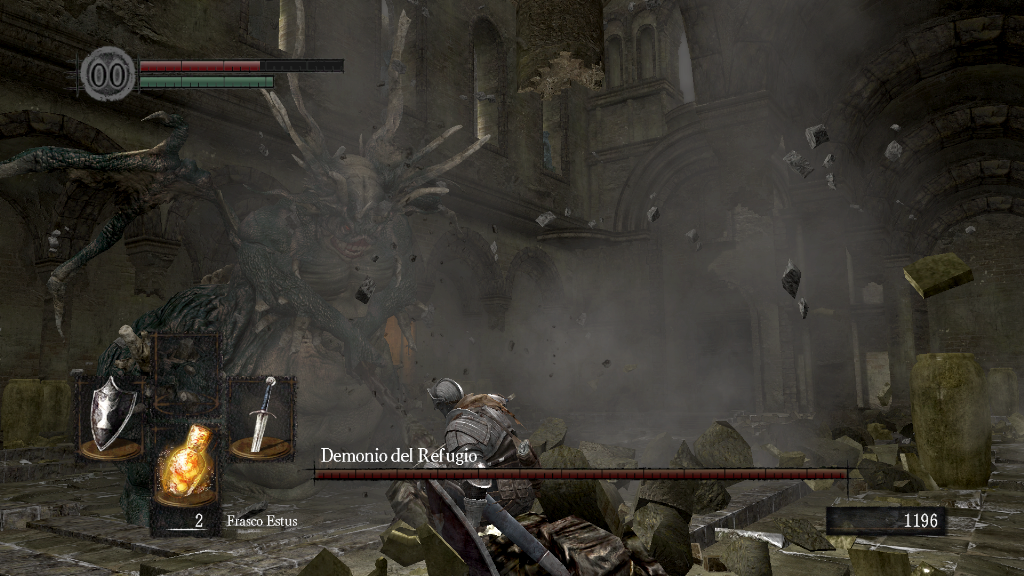asylumDemon: (1, 3, 498, 486)
bossHP: (314, 469, 847, 479)
health: (138, 58, 343, 71)
humanity: (80, 45, 136, 102)
player: (425, 376, 536, 576)
souls: (825, 506, 945, 536)
stamina: (138, 74, 274, 88)
